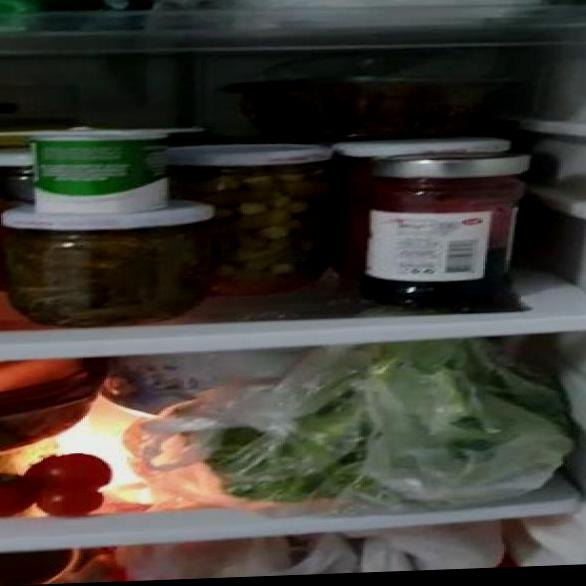cream cheese: (0, 0, 152, 32)
lettuce: (205, 391, 552, 504)
tomato: (0, 455, 106, 514)
yoghurt: (0, 124, 184, 213)
